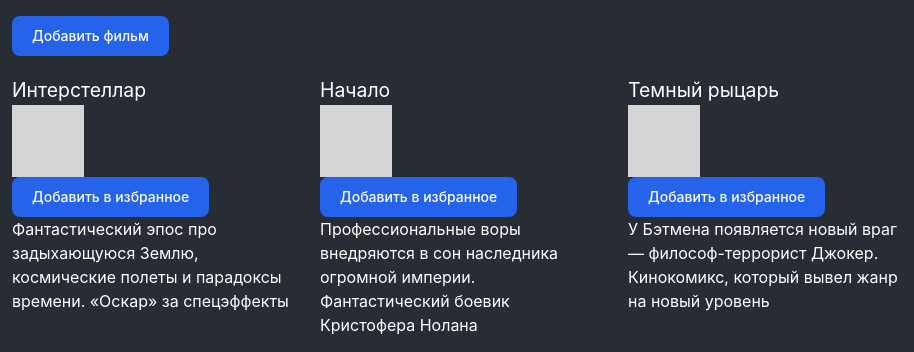
Test: 2.1 Referencing Values with Refs | Manipulating the DOM with Refs | Effects › 2.1 Фильм добавляется и удаляется из избранного
Expected: the button "Удалить из избранного" is not shown
Expected: the heading "Интерстеллар" is shown, [12,78,146,102]
// Интерстеллар - это первый фильм, поэтому просто нажмем на первую кнопку "Добавить в избранное"
Click the button "Добавить в избранное" below "Интерстеллар".
click(111, 197)  # box [12,177,209,217]
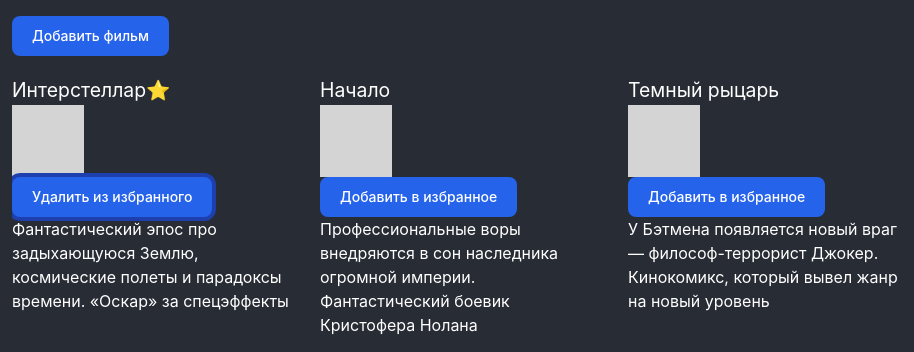
Result: the button "Удалить из избранного" is shown
Result: the heading "Интерстеллар⭐" is shown at [12,78,170,102]
// Нажимаем на "Удалить из избранного"
Click the button "Удалить из избранного".
click(112, 197)  # box [12,177,212,217]
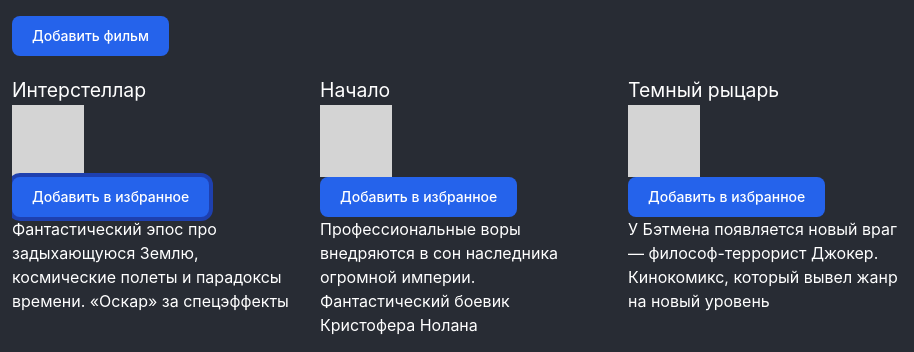
Expected: the heading "Интерстеллар" is shown, [12,78,146,102]
Result: the button "Удалить из избранного" is gone
